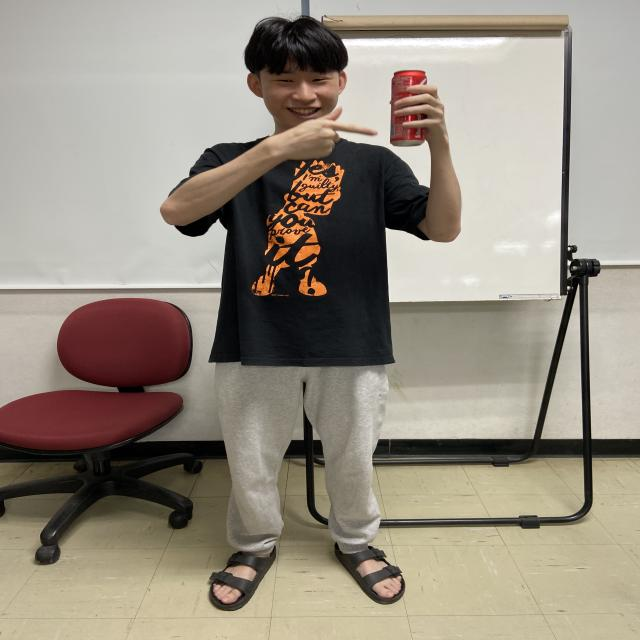can: (389, 70, 429, 148)
